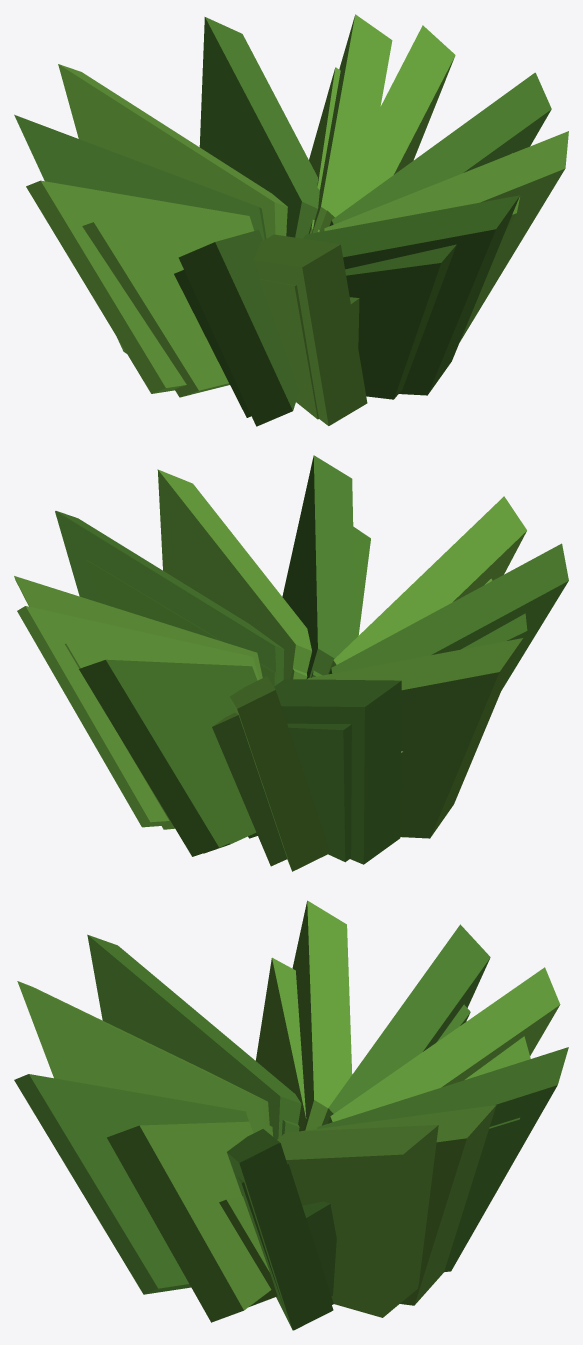
File: Crop_Crop_Basil.fbx
The picture shows the model from 3 angles, top to bottom: view 1: azimuth 30°, elevation 25°; view 2: azimuth 150°, elevation 25°; view 3: azimuth 270°, elevation 25°; orthographic projection. The views are drawn at different scales.
Visible parts, largest first — view 1: Crop_Crop_Basil__S4, Crop_Crop_Basil__S3; view 2: Crop_Crop_Basil__S4, Crop_Crop_Basil__S3; view 3: Crop_Crop_Basil__S4, Crop_Crop_Basil__S3, Crop_Crop_Basil__S2.
Boxes of the visible parts, x1,y1,x2,y2 form: Crop_Crop_Basil__S4: (14, 14, 568, 426); Crop_Crop_Basil__S3: (82, 67, 519, 419); Crop_Crop_Basil__S4: (14, 455, 568, 871); Crop_Crop_Basil__S3: (65, 526, 527, 866); Crop_Crop_Basil__S4: (14, 900, 568, 1330); Crop_Crop_Basil__S3: (237, 957, 530, 1309); Crop_Crop_Basil__S2: (219, 1196, 336, 1306).
Bounding box in the file's own units: 0.0981 × 0.0491 × 0.0949.
